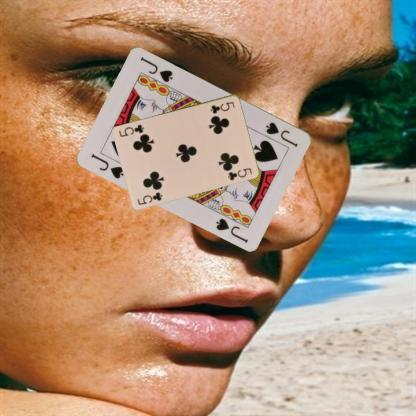5c: (135, 189, 164, 206), (208, 99, 236, 115)
Js: (263, 119, 300, 149), (88, 151, 126, 180)
